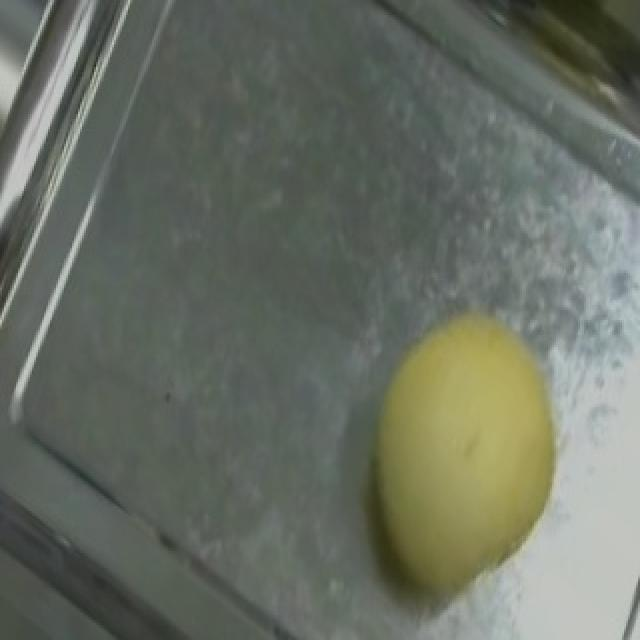Fruit: (320, 278, 610, 625)
